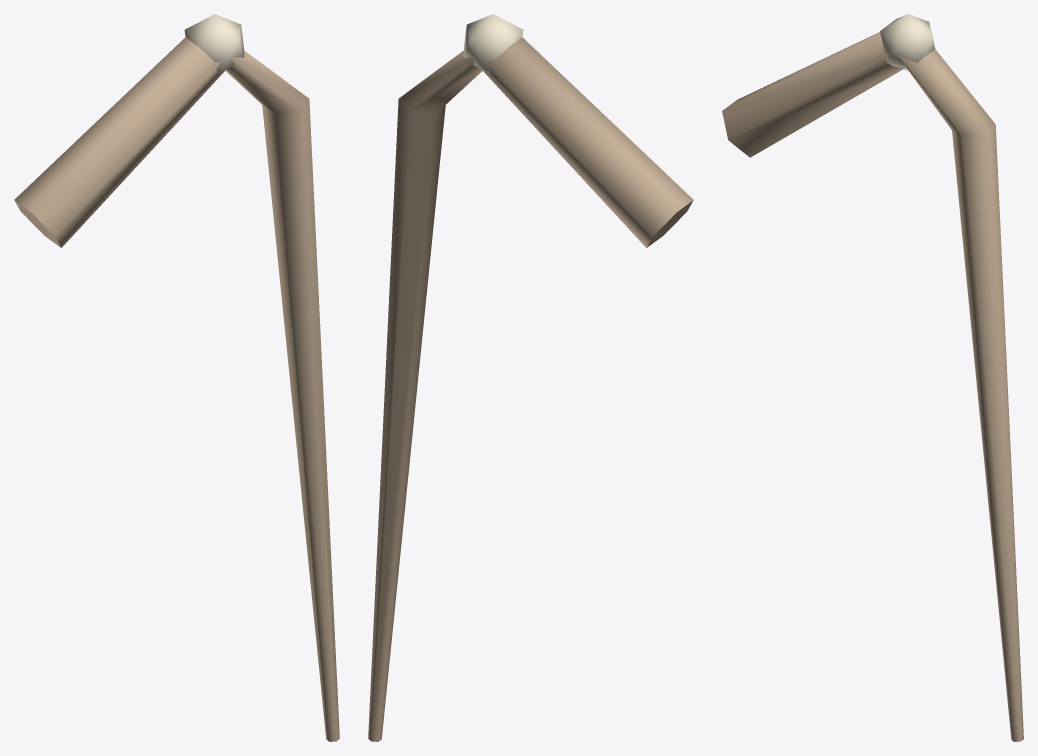
The model's file is cr_leg_c.fbx.
The picture shows the model from 3 angles, left to right: view 1: azimuth 30°, elevation 25°; view 2: azimuth 150°, elevation 25°; view 3: azimuth 330°, elevation 25°; orthographic projection. The views are drawn at different scales.
Parts seen in each view (by area): view 1: Leg; view 2: Leg; view 3: Leg.
Part boxes in pixels (x1,y1,x2,y2): Leg: (14,14,339,741); Leg: (368,14,693,741); Leg: (722,14,1023,741).
Size of the model in its own units: 0.5342 by 1.22 by 0.1.
